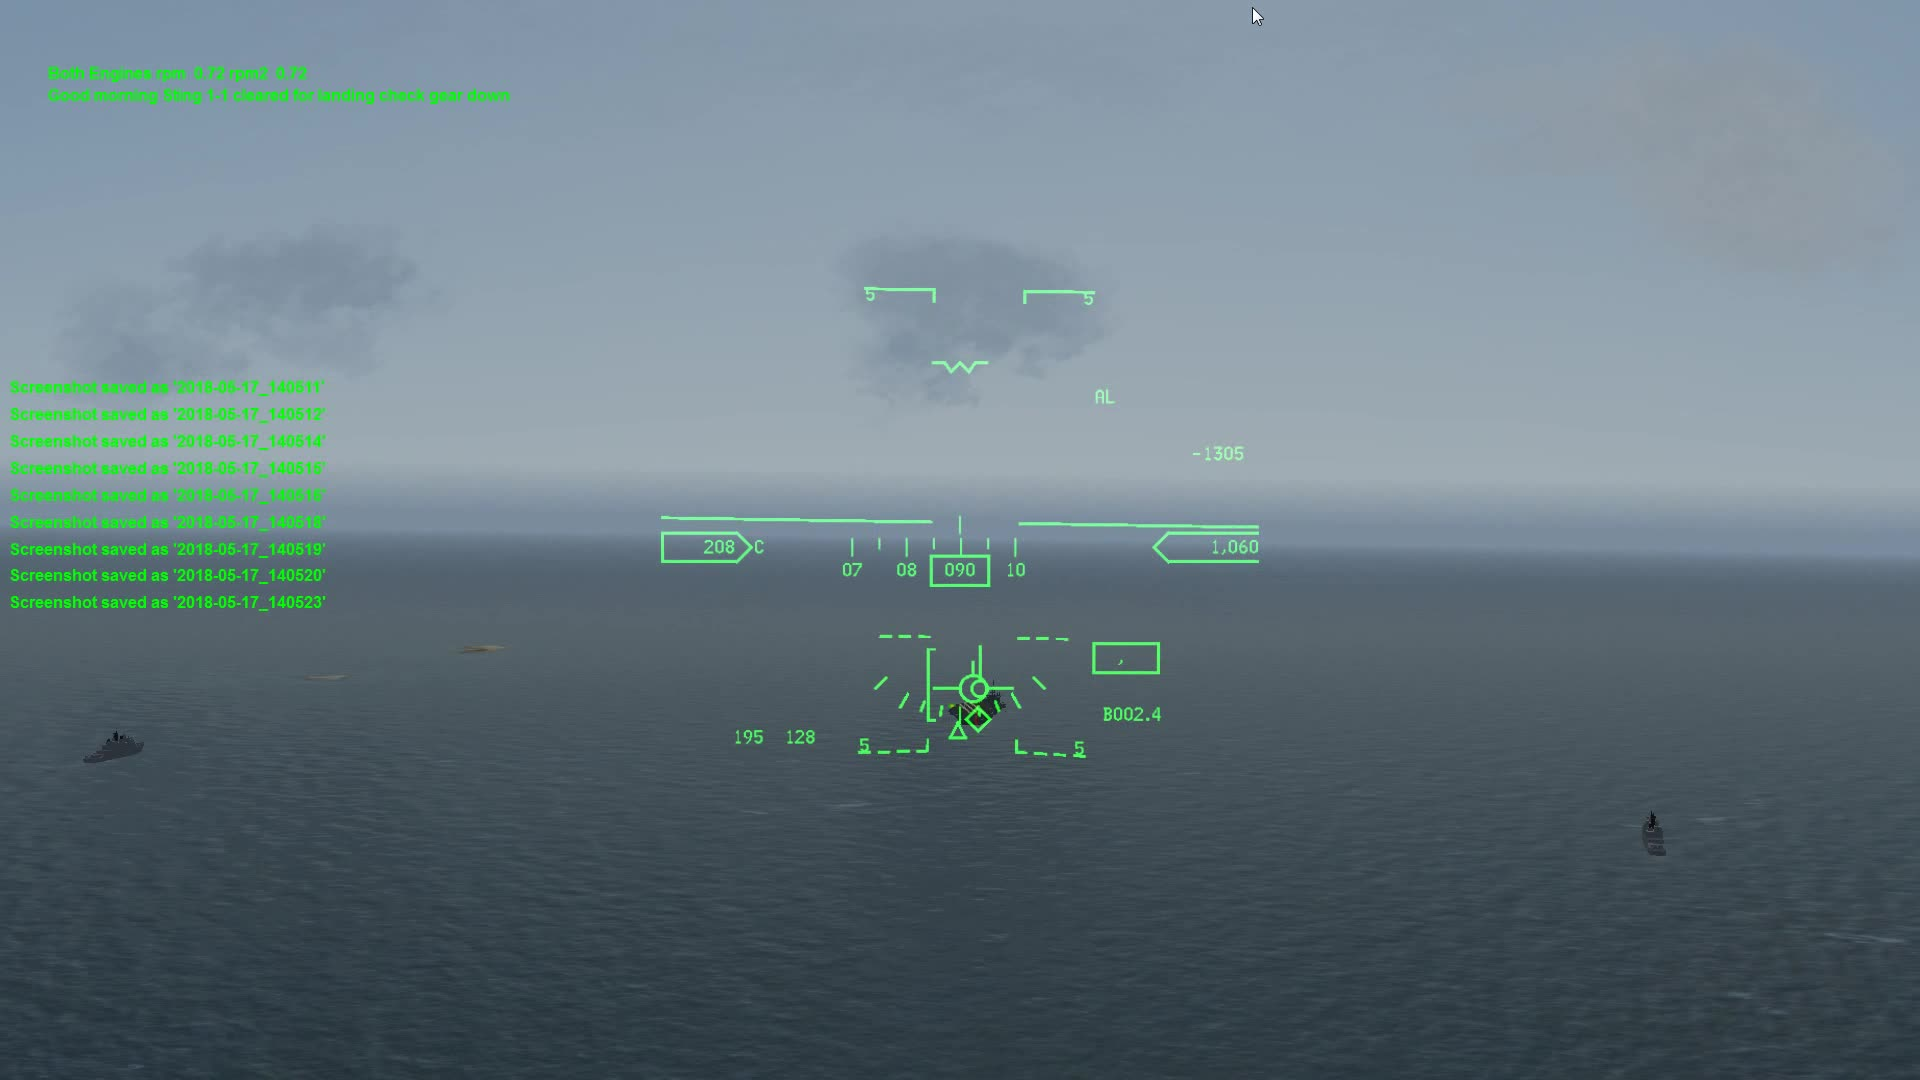speed vector: (930, 640, 1022, 708)
